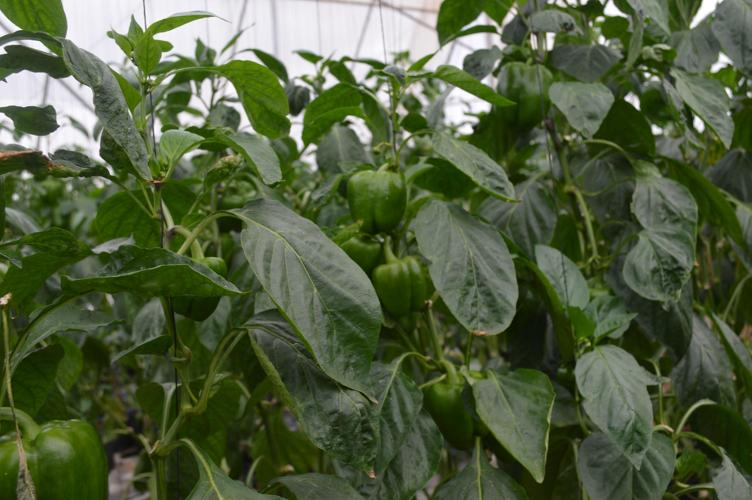BellPepper: (3, 415, 129, 500), (412, 371, 508, 467), (155, 252, 239, 339), (492, 51, 556, 143), (373, 256, 442, 335), (348, 167, 418, 244)
